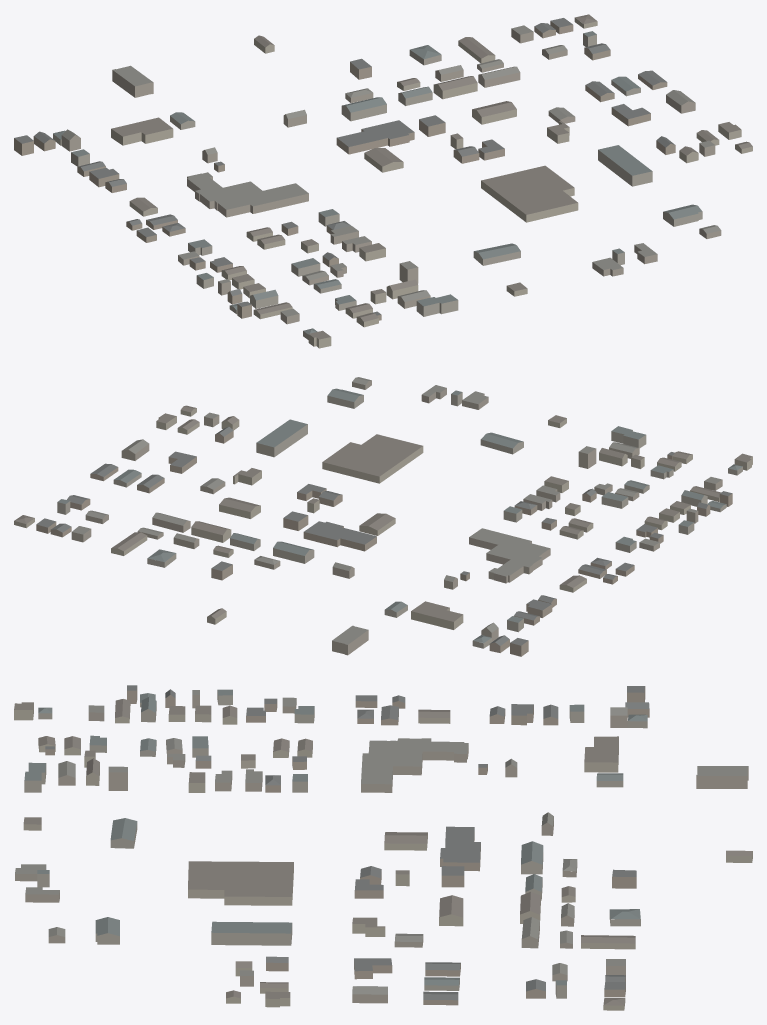
The model's file is 988fde056670-chunk-1205_11840.glb.
The picture shows the model from 3 angles, top to bottom: view 1: azimuth 30°, elevation 25°; view 2: azimuth 150°, elevation 25°; view 3: azimuth 270°, elevation 25°; orthographic projection. The views are drawn at different scales.
Visible parts, largest first — view 1: building_111165, building_83506, building_78667, building_126122, building_13239, building_12009, building_138637, building_53586, building_17415, building_85516, building_135434, building_9222 (+4 smaller); view 2: building_111165, building_83506, building_78667, building_126122, building_13239, building_12009, building_138637, building_53586, building_17415, building_85516, building_9222, building_135434 (+4 smaller); view 3: building_111165, building_83506, building_126122, building_78667, building_12009, building_13239, building_9222, building_33765, building_17415, building_53586, building_138637, building_61967 (+6 smaller).
Part boxes in pixels (x1=…): building_111165: x1=481, y1=165, x2=578, y2=222; building_83506: x1=187, y1=172, x2=308, y2=217; building_78667: x1=336, y1=120, x2=414, y2=154; building_126122: x1=598, y1=145, x2=652, y2=186; building_13239: x1=111, y1=117, x2=173, y2=145; building_12009: x1=112, y1=65, x2=153, y2=97; building_138637: x1=341, y1=97, x2=386, y2=121; building_53586: x1=472, y1=101, x2=516, y2=124; building_17415: x1=473, y1=243, x2=520, y2=265; building_85516: x1=433, y1=76, x2=477, y2=99; building_135434: x1=416, y1=294, x2=458, y2=316; building_9222: x1=364, y1=148, x2=403, y2=172; building_111165: x1=322, y1=434, x2=423, y2=483; building_83506: x1=469, y1=528, x2=550, y2=583; building_78667: x1=303, y1=521, x2=376, y2=551; building_126122: x1=256, y1=419, x2=307, y2=457; building_13239: x1=411, y1=601, x2=463, y2=629; building_12009: x1=332, y1=625, x2=368, y2=655; building_138637: x1=273, y1=541, x2=314, y2=563; building_53586: x1=219, y1=497, x2=260, y2=518; building_17415: x1=480, y1=432, x2=523, y2=454; building_85516: x1=191, y1=521, x2=231, y2=542; building_9222: x1=359, y1=513, x2=395, y2=535; building_135434: x1=611, y1=426, x2=646, y2=447; building_111165: x1=188, y1=861, x2=293, y2=905; building_83506: x1=361, y1=738, x2=468, y2=792; building_126122: x1=211, y1=921, x2=292, y2=945; building_78667: x1=440, y1=826, x2=480, y2=871; building_12009: x1=696, y1=766, x2=748, y2=788; building_13239: x1=584, y1=736, x2=618, y2=772; building_9222: x1=384, y1=832, x2=427, y2=850; building_33765: x1=581, y1=935, x2=635, y2=949; building_17415: x1=110, y1=818, x2=137, y2=848; building_53586: x1=439, y1=895, x2=463, y2=926; building_138637: x1=521, y1=841, x2=543, y2=874; building_61967: x1=354, y1=958, x2=392, y2=979.
Size of the model in its own units: 383 by 10.67 by 383.
